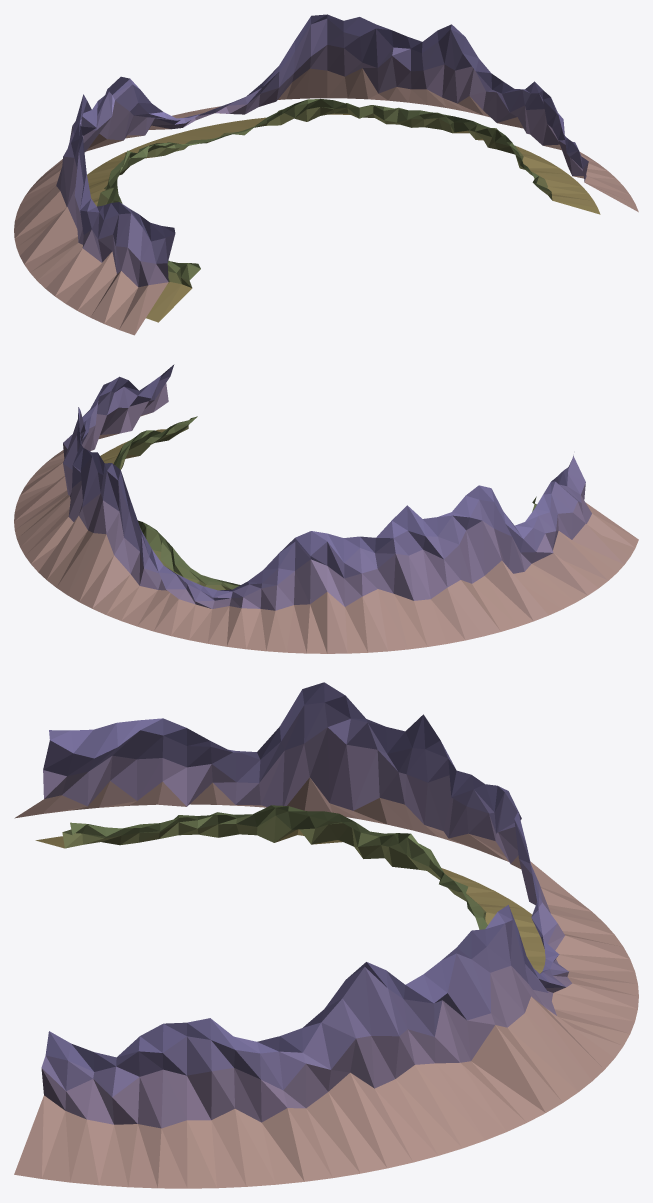
The model's file is hills.glb.
3 renders of one model, top to bottom at view 1: azimuth 30°, elevation 25°; view 2: azimuth 150°, elevation 25°; view 3: azimuth 270°, elevation 25°, orthographic. The views are drawn at different scales.
Parts seen in each view (by area): view 1: hills; view 2: hills; view 3: hills.
Part boxes in pixels (box(x1,y1,x2,y2)): hills: box(14, 14, 638, 335); hills: box(14, 364, 638, 653); hills: box(14, 682, 638, 1188).
Bounding box in the file's own units: 146 × 30.75 × 100.
